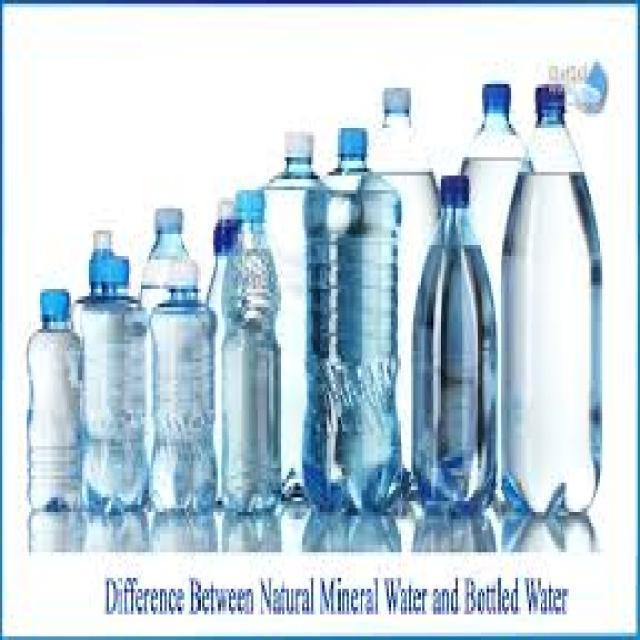bottle: (478, 69, 618, 532), (25, 201, 216, 523)
